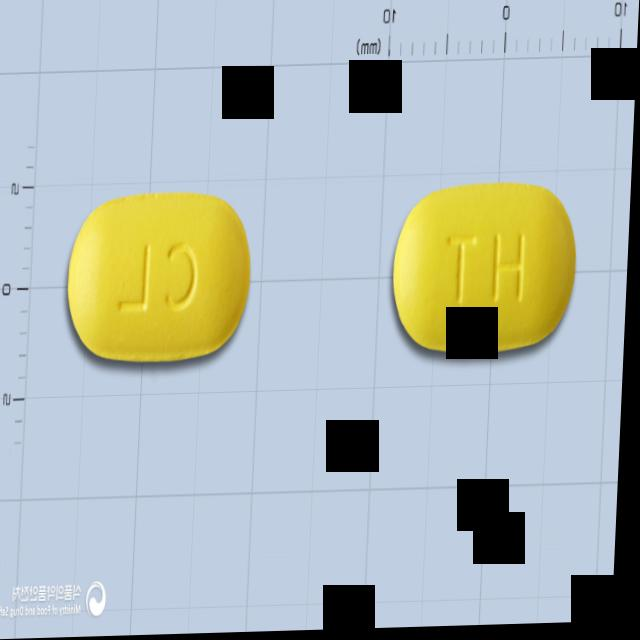Clathrocin -500mg: (66, 187, 257, 366), (392, 184, 582, 361)
